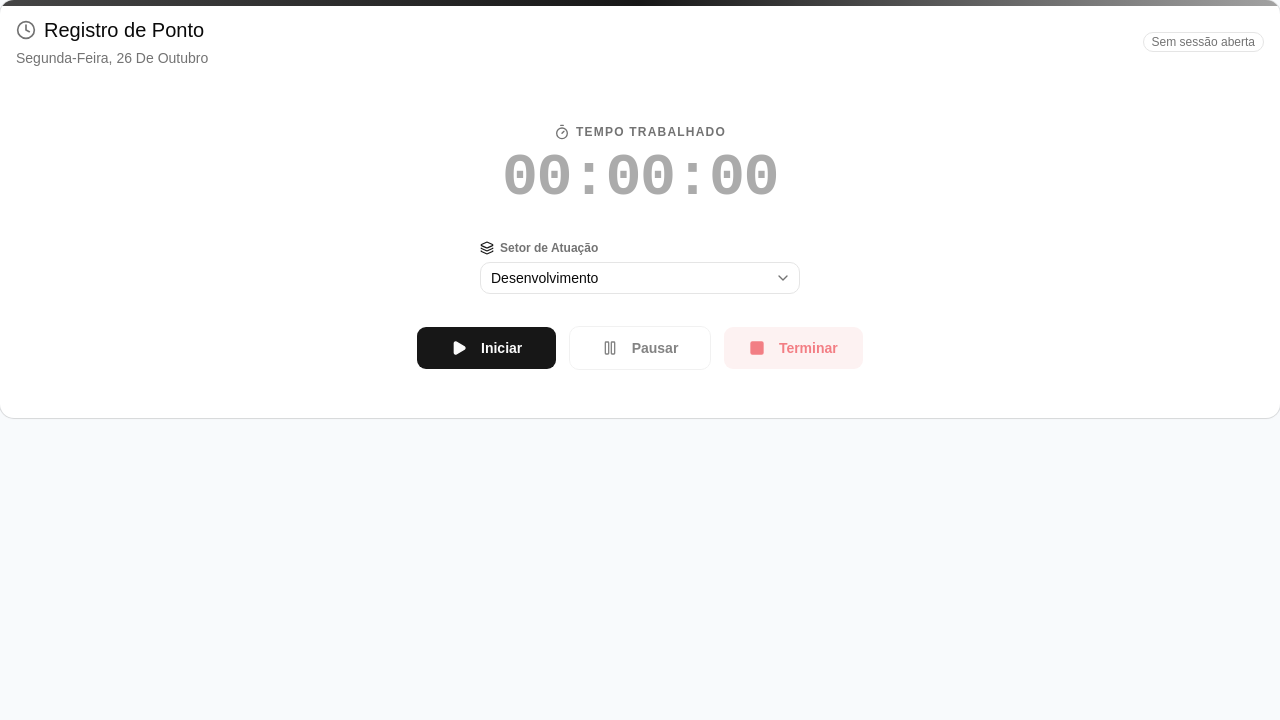
Test: TimeClockTracker Component › Iniciar Sessão (Happy Path e Erro 409) › deve exibir erro quando houver conflito de sessão aberta (409)
This screenshot has width=1280, height=720.
What coordinates should you click on to do the following:
click the button "Iniciar"
I would click on:
 (487, 348)
Its box is [416,326,557,370].
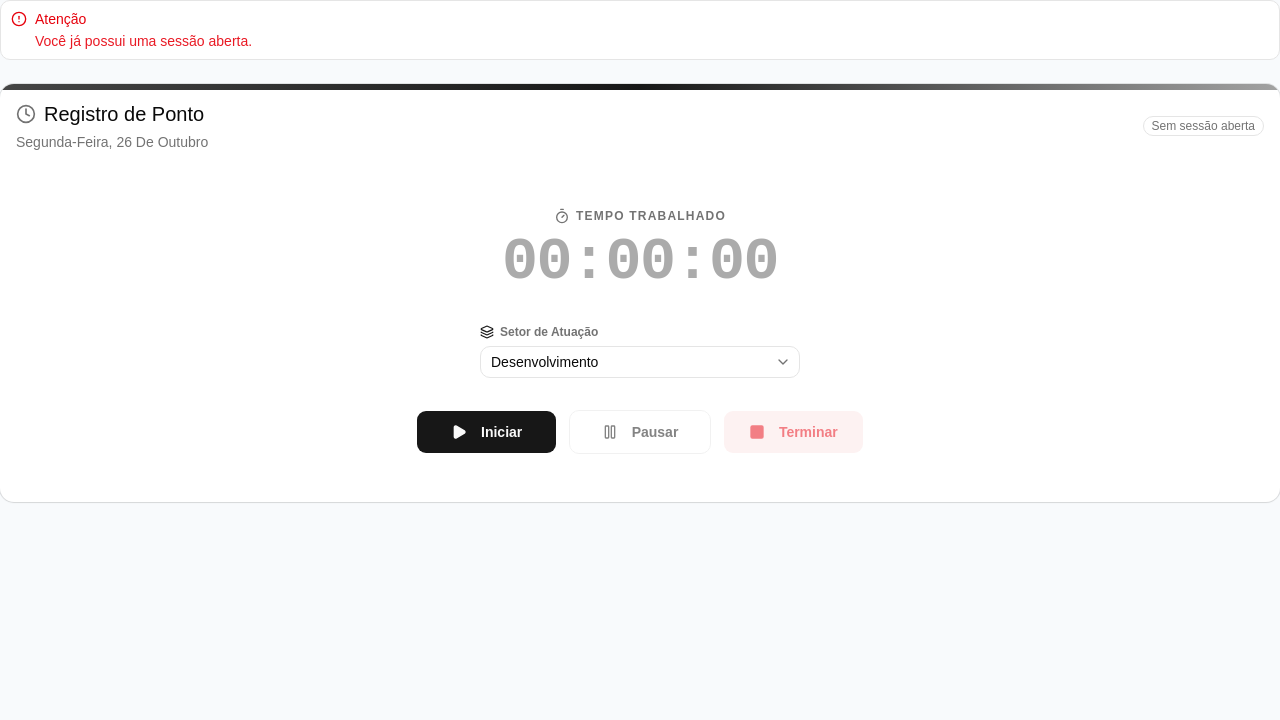
Now the text "Você já possui uma sessão aberta." is shown, box [35,33,252,49]
